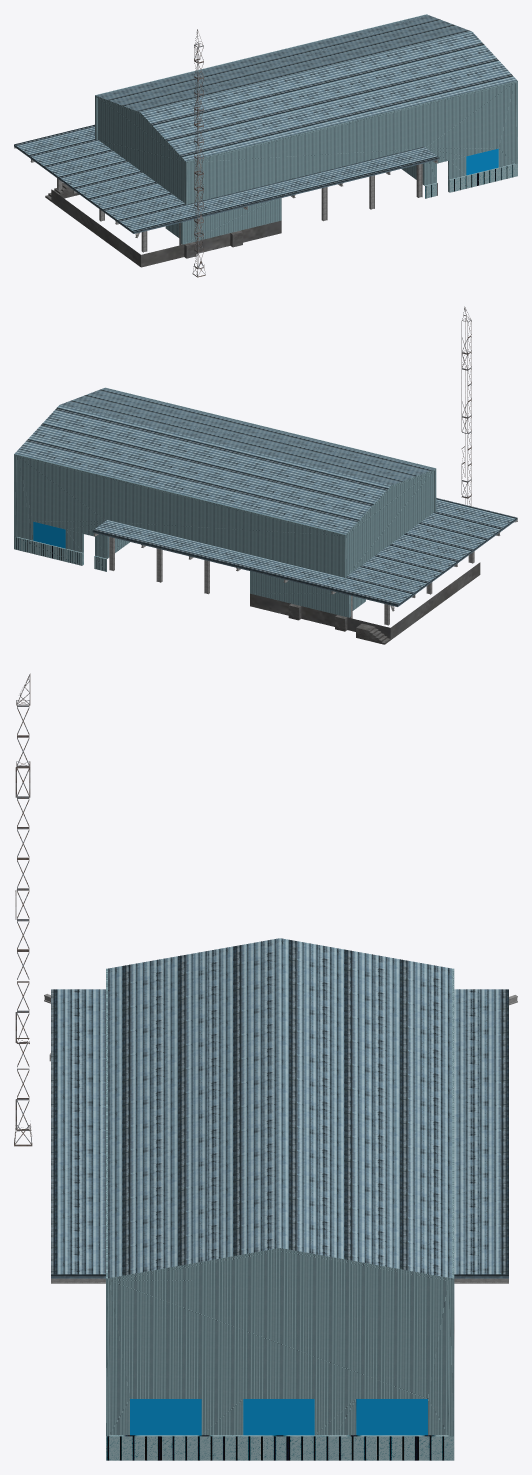
Rendered from changfang10.gltf.
3 renders of one model, top to bottom at view 1: azimuth 30°, elevation 25°; view 2: azimuth 150°, elevation 25°; view 3: azimuth 270°, elevation 25°, orthographic. The views are drawn at different scales.
Visible parts, largest first — view 1: gongchang10_120, gongchang10_116, gongchang10_121, gongchang10_125, gongchang10_46, gongchang10_127; view 2: gongchang10_120, gongchang10_116, gongchang10_121, gongchang10_148, gongchang10_46, gongchang10_115, gongchang10_74; view 3: gongchang10_120, gongchang10_116, gongchang10_35, gongchang10_107, gongchang10_150, gongchang10_46.
Boxes of the visible parts, bbox=[...] form: gongchang10_120: bbox=[95, 14, 517, 205]; gongchang10_116: bbox=[14, 124, 439, 233]; gongchang10_121: bbox=[51, 189, 281, 267]; gongchang10_125: bbox=[180, 198, 281, 244]; gongchang10_46: bbox=[192, 43, 203, 276]; gongchang10_127: bbox=[466, 148, 498, 175]; gongchang10_120: bbox=[14, 387, 436, 578]; gongchang10_116: bbox=[92, 498, 517, 606]; gongchang10_121: bbox=[250, 562, 480, 639]; gongchang10_148: bbox=[250, 571, 350, 617]; gongchang10_46: bbox=[461, 318, 471, 505]; gongchang10_115: bbox=[33, 521, 65, 548]; gongchang10_74: bbox=[356, 623, 390, 644]; gongchang10_120: bbox=[106, 938, 454, 1460]; gongchang10_116: bbox=[51, 989, 508, 1278]; gongchang10_35: bbox=[356, 1399, 427, 1435]; gongchang10_107: bbox=[130, 1399, 201, 1435]; gongchang10_150: bbox=[243, 1399, 314, 1435]; gongchang10_46: bbox=[14, 700, 32, 1146].
Size of what is drawn, in the model's own units: 394 by 232 by 226.
Materials: 6 (5 with a texture image).
